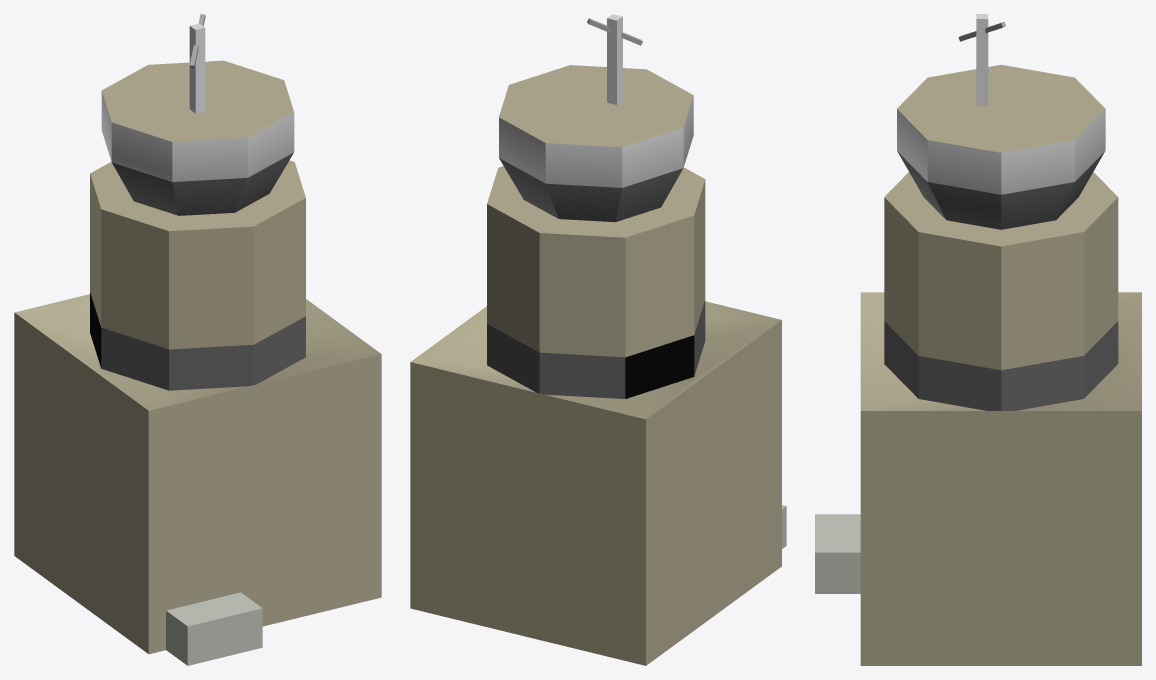
The model's file is TOUR.fbx.
3 views of the same model, side by side, from view 1: azimuth 30°, elevation 25°; view 2: azimuth 150°, elevation 25°; view 3: azimuth 270°, elevation 25° (orthographic). The views are drawn at different scales.
Parts seen in each view (by area): view 1: pCube5, pCube9, pCube7; view 2: pCube5, pCube7; view 3: pCube5, pCube9, pCube7.
Boxes of the visible parts, box(x1,y1,x2,y2) form: pCube5: box(14, 60, 381, 654); pCube9: box(166, 592, 262, 665); pCube7: box(189, 23, 205, 113); pCube5: box(410, 65, 781, 665); pCube7: box(607, 14, 622, 104); pCube5: box(860, 64, 1141, 665); pCube9: box(815, 514, 860, 593); pCube7: box(976, 14, 988, 106).
Bounding box in the file's own units: 617 × 1420 × 716.
